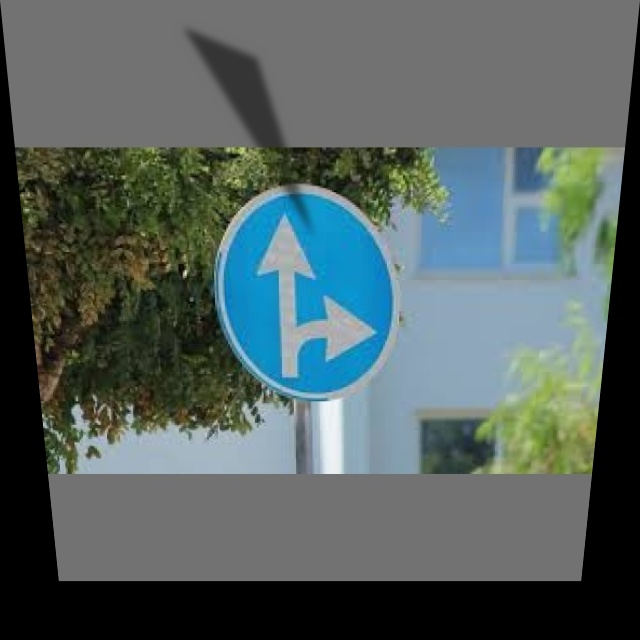Compulsory_Ahead_or_Turn_Right: (216, 184, 408, 401)
